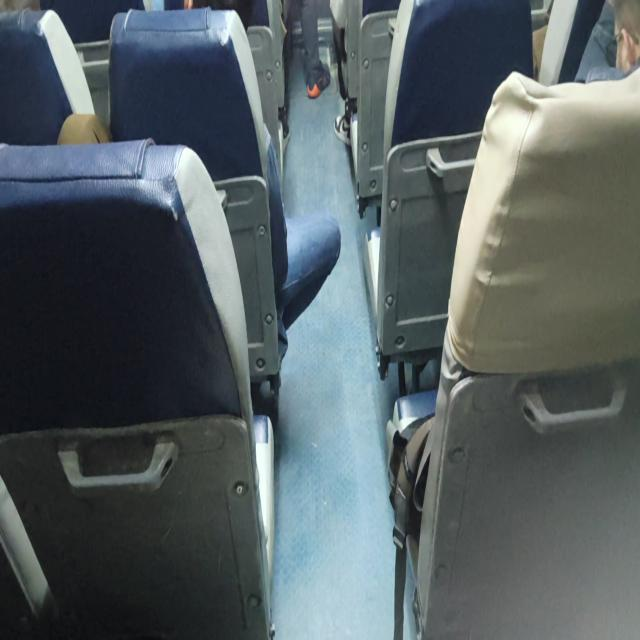person: (593, 0, 639, 69), (184, 0, 256, 43)
